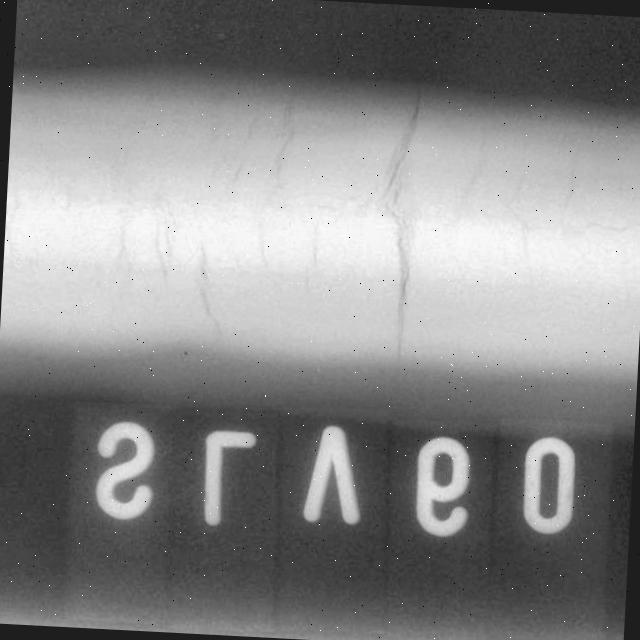Crack: (170, 92, 316, 366), (363, 104, 447, 383), (68, 146, 184, 348), (481, 134, 629, 292)
